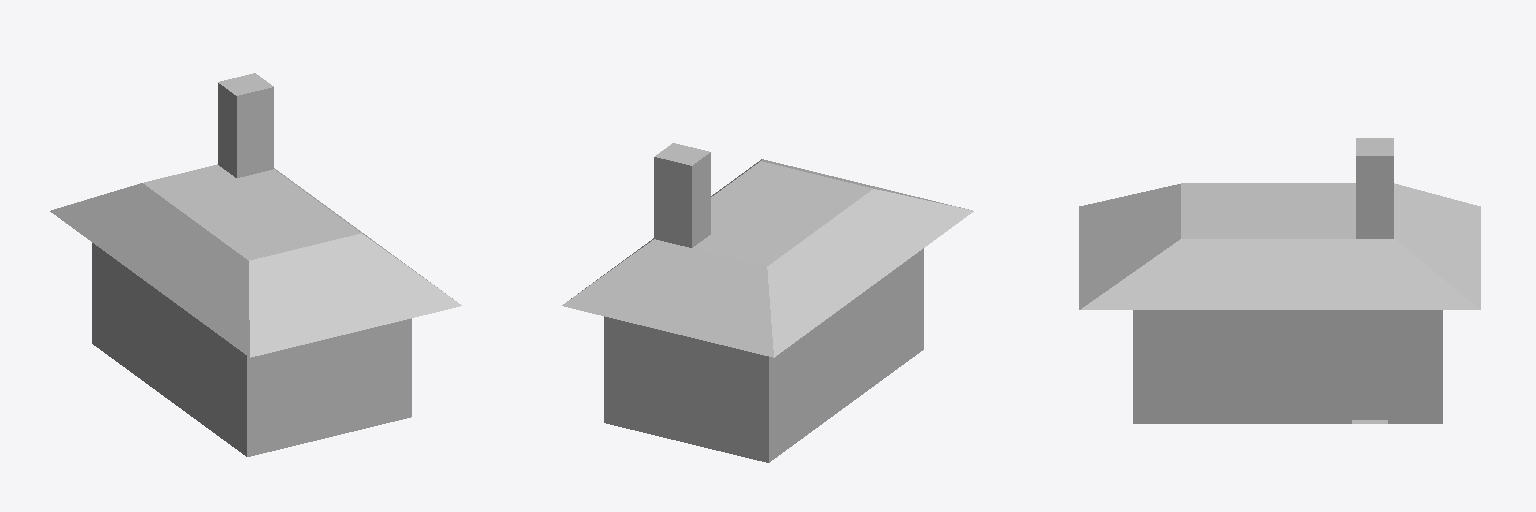
File: house.obj
3 renders of one model, left to right at view 1: azimuth 30°, elevation 25°; view 2: azimuth 150°, elevation 25°; view 3: azimuth 270°, elevation 25°, orthographic.
Visible parts, largest first — view 1: house; view 2: house; view 3: house.
Boxes of the visible parts, x1,y1,x2,y2 form: house: [50, 73, 461, 456]; house: [562, 143, 973, 462]; house: [1079, 138, 1480, 423].
Bounding box in the file's own units: 1.55 × 1.77 × 2.53.